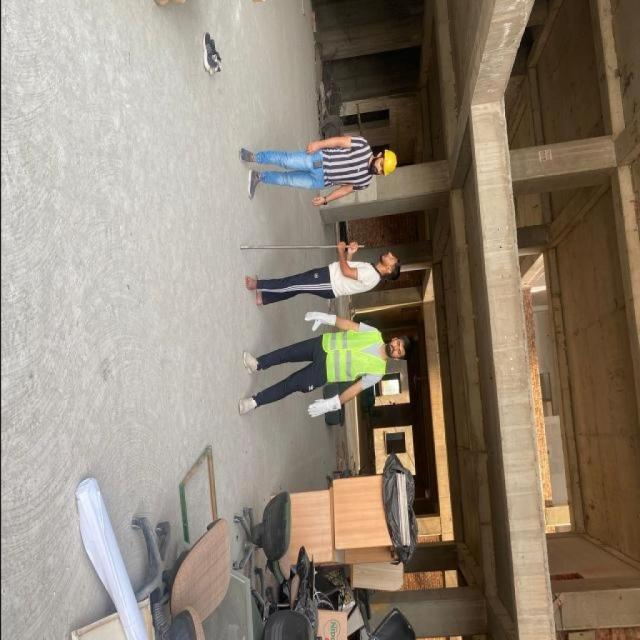Gloves-Detection: (295, 306, 348, 336), (308, 394, 346, 419)
